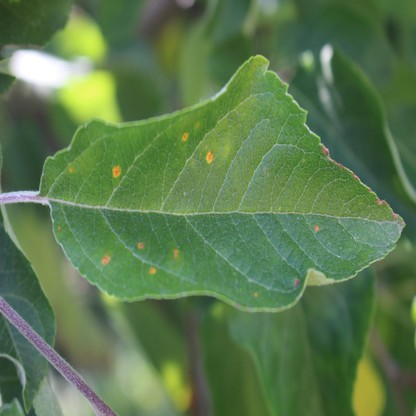rust: (206, 150, 214, 164), (100, 256, 109, 266), (113, 164, 120, 176), (173, 248, 178, 259), (313, 223, 319, 232), (149, 267, 156, 274), (182, 133, 187, 142), (295, 278, 300, 286), (253, 291, 258, 297), (138, 243, 143, 248), (195, 122, 199, 128), (57, 225, 61, 230), (69, 167, 73, 172)
